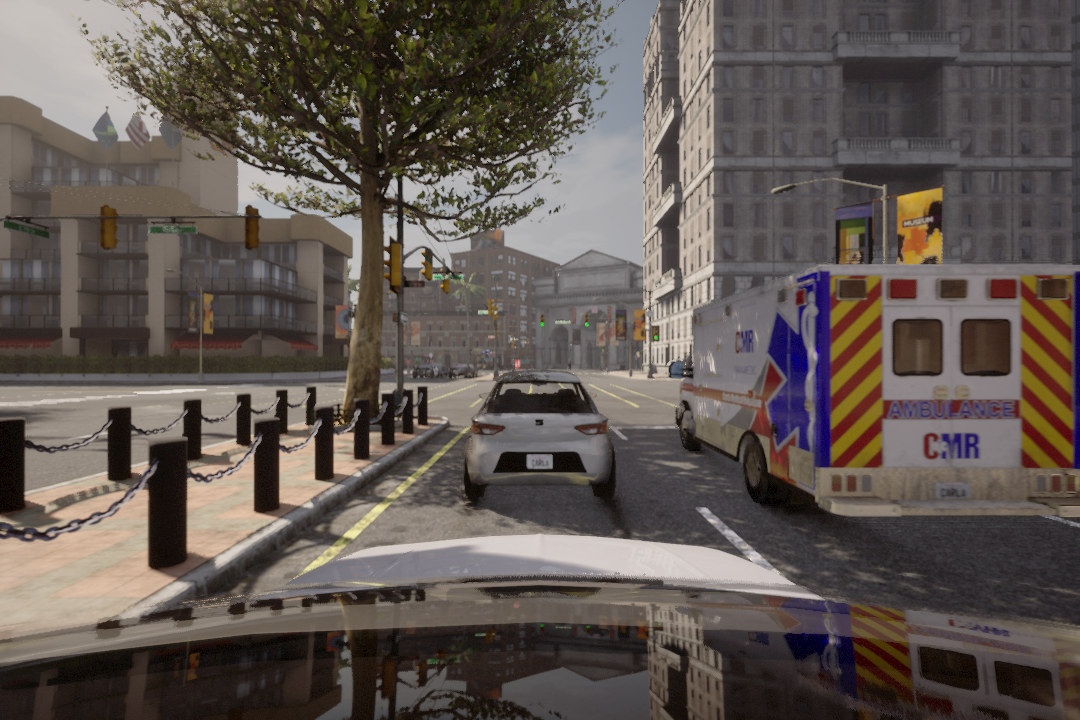TrafficLight: (651, 324, 661, 343), (538, 313, 546, 327), (584, 314, 590, 328)
